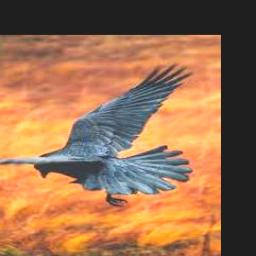Crow: (0, 61, 194, 206)
